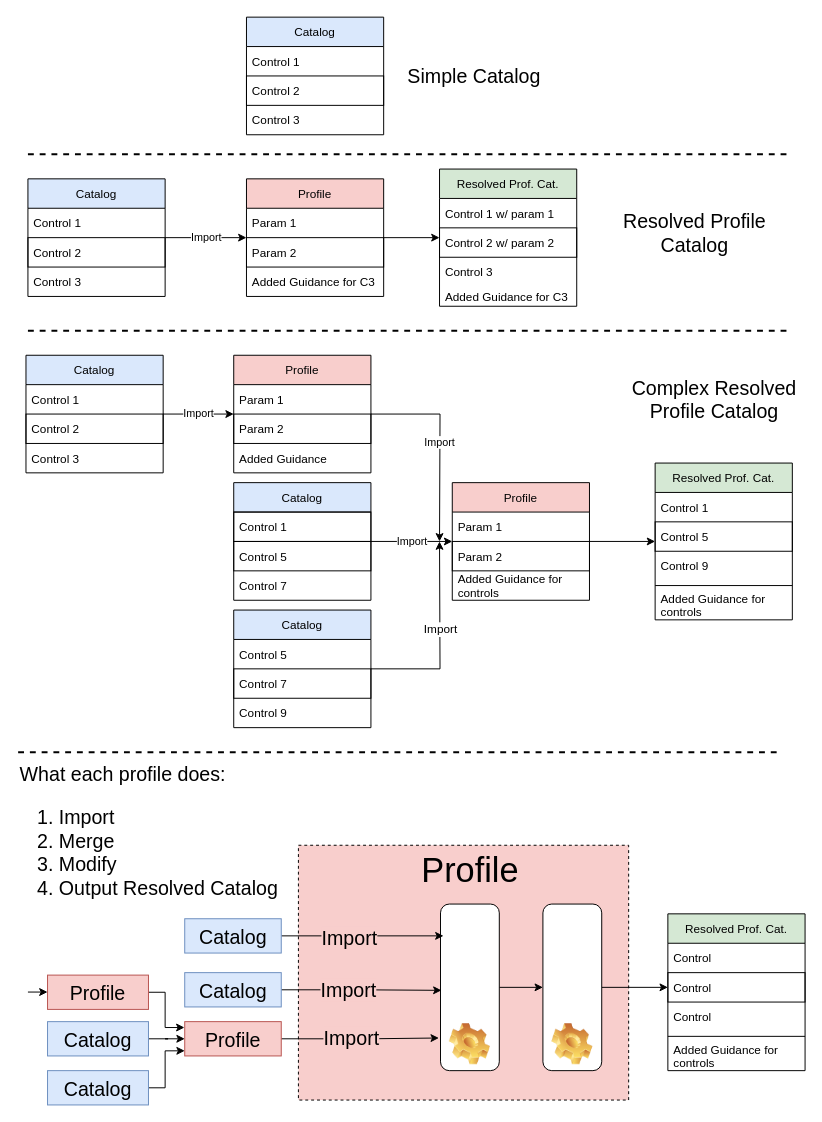
Image size: 822x1122. Some labels were removed from this diagram. Each missing label, with the centre of its shape:
"Merge" goes at point (469, 987).
"Modify" goes at point (572, 987).
